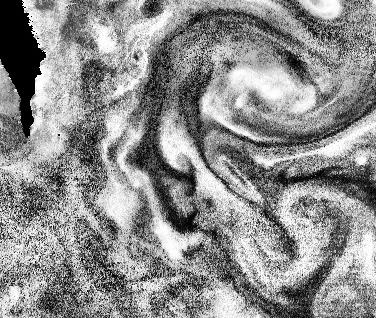AE: (160, 4, 342, 166)
